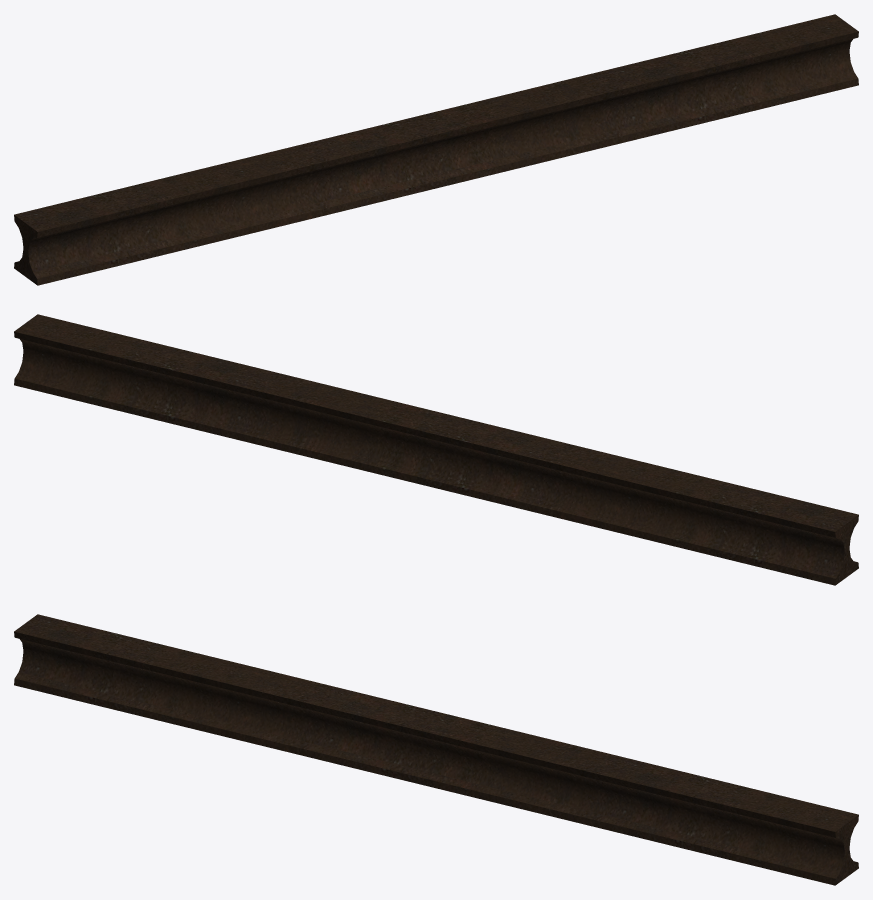
File: beam_5.obj
3 renders of one model, top to bottom at view 1: azimuth 30°, elevation 25°; view 2: azimuth 150°, elevation 25°; view 3: azimuth 330°, elevation 25°, orthographic.
Parts seen in each view (by area): view 1: beam_5; view 2: beam_5; view 3: beam_5.
Boxes of the visible parts, box(x1,y1,x2,y2) form: beam_5: box(14, 14, 858, 285); beam_5: box(14, 314, 858, 585); beam_5: box(14, 614, 858, 885).
Size of the model in its own units: 4 by 0.25 by 0.2.
